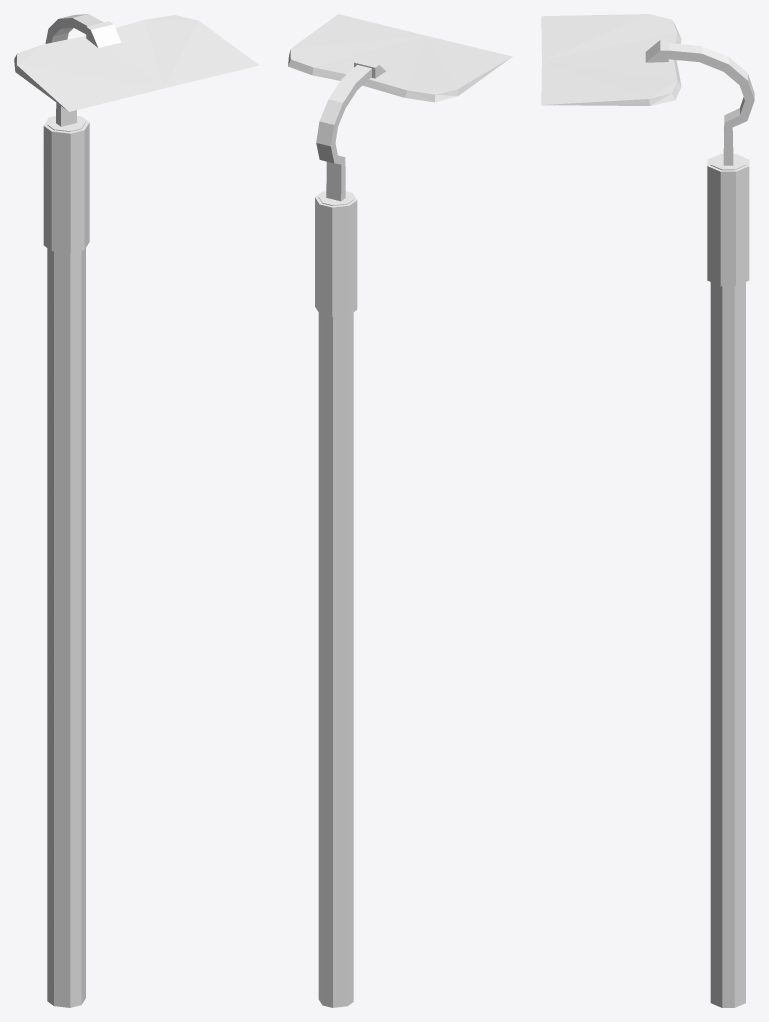
The model's file is Tool_Hoe_02.glb.
3 renders of one model, left to right at view 1: azimuth 30°, elevation 25°; view 2: azimuth 150°, elevation 25°; view 3: azimuth 270°, elevation 25°, orthographic. The views are drawn at different scales.
Visible parts, largest first — view 1: Tool_Hoe_02; view 2: Tool_Hoe_02; view 3: Tool_Hoe_02.
Part boxes in pixels (left/top/right/bottom): Tool_Hoe_02: left=14, top=14, right=259, bottom=1007; Tool_Hoe_02: left=288, top=14, right=512, bottom=1007; Tool_Hoe_02: left=541, top=14, right=754, bottom=1007.
Bounding box in the file's own units: 0.2824 × 1.41 × 0.2863.
1 material, 1 textured.
